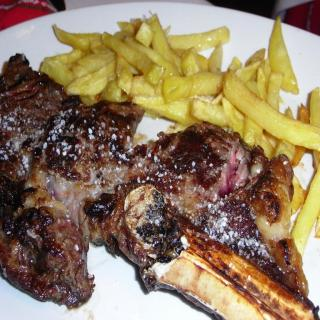French fries: (38, 11, 320, 265)
